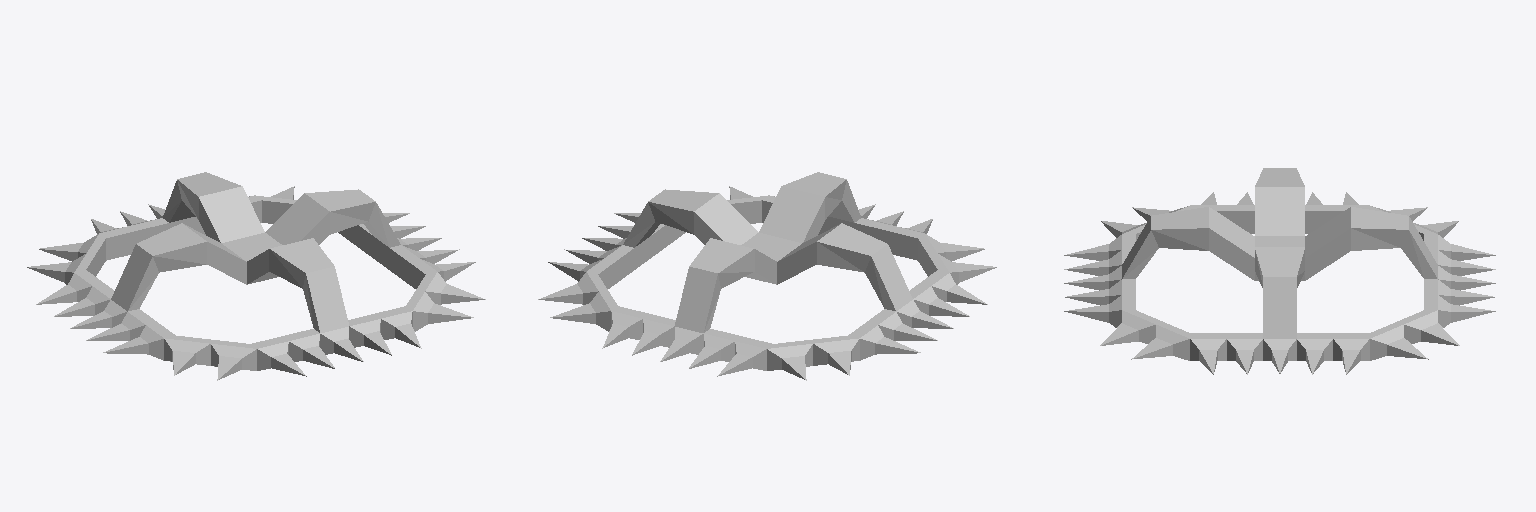
The model's file is maaier.obj.
3 renders of one model, left to right at view 1: azimuth 30°, elevation 25°; view 2: azimuth 150°, elevation 25°; view 3: azimuth 270°, elevation 25°, orthographic.
Visible parts, largest first — view 1: maaier; view 2: maaier; view 3: maaier.
Boxes of the visible parts, x1=… form: maaier: x1=27, y1=172, x2=485, y2=380; maaier: x1=538, y1=172, x2=996, y2=380; maaier: x1=1064, y1=168, x2=1495, y2=374.
Bounding box in the file's own units: 3.41 × 0.671 × 3.41.